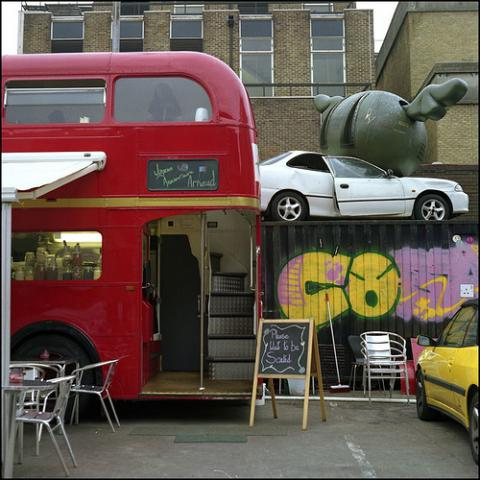bus: (2, 55, 264, 403)
car: (261, 148, 470, 220), (413, 296, 479, 466)
